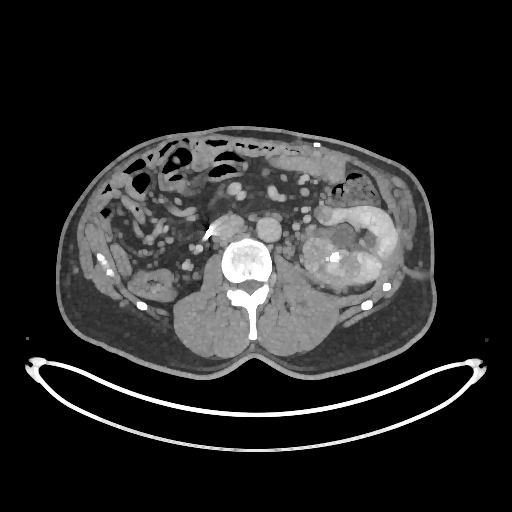Lesion: (298, 235, 336, 265)
